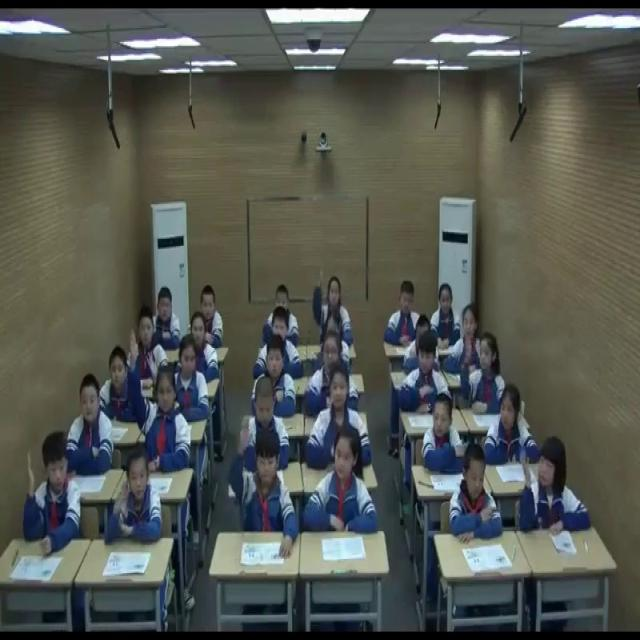focused: (303, 431, 380, 536), (302, 365, 372, 470), (61, 377, 119, 488), (103, 446, 162, 538), (449, 446, 504, 540), (483, 385, 542, 465), (397, 328, 451, 412), (306, 336, 361, 414), (248, 375, 292, 464), (168, 331, 210, 423), (420, 400, 468, 471), (254, 337, 294, 413), (257, 308, 301, 374), (384, 282, 424, 352), (446, 302, 486, 372), (263, 284, 302, 348), (132, 308, 167, 378), (187, 311, 221, 383), (102, 349, 136, 414), (432, 285, 461, 351), (402, 313, 436, 368), (153, 286, 183, 347), (200, 286, 226, 349)
raising_hand: (225, 417, 301, 562), (23, 425, 85, 560), (515, 439, 590, 532), (463, 326, 511, 412), (311, 266, 354, 345)
